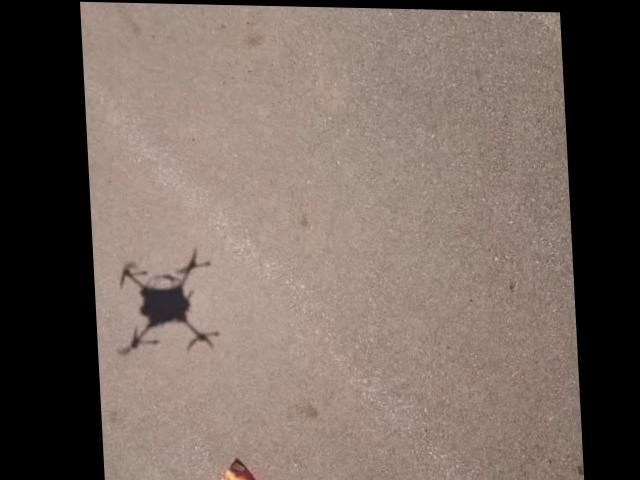fire-poster: (149, 454, 305, 480)
